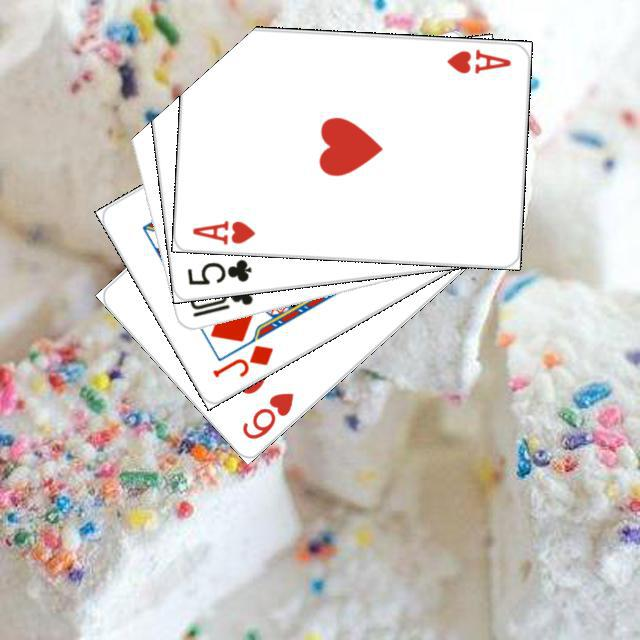10c: (184, 277, 257, 319)
5c: (182, 254, 254, 287)
6h: (237, 387, 296, 442)
Ah: (442, 44, 512, 75), (187, 216, 257, 246)
Jd: (207, 339, 275, 379)
